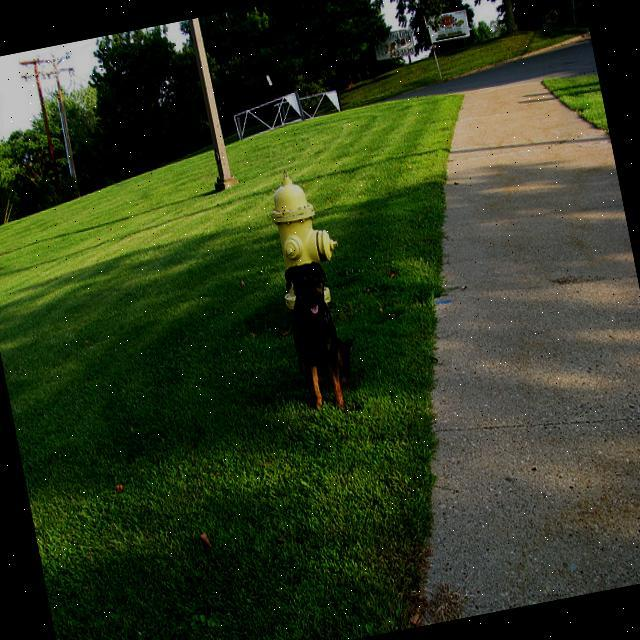fire_hydrant: (258, 160, 348, 312)
